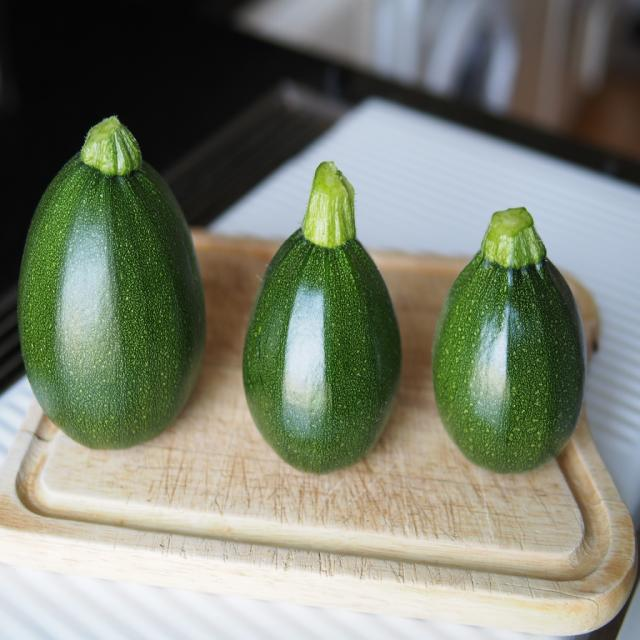Zucchini: (12, 106, 201, 447), (243, 158, 402, 475), (431, 201, 587, 472)
